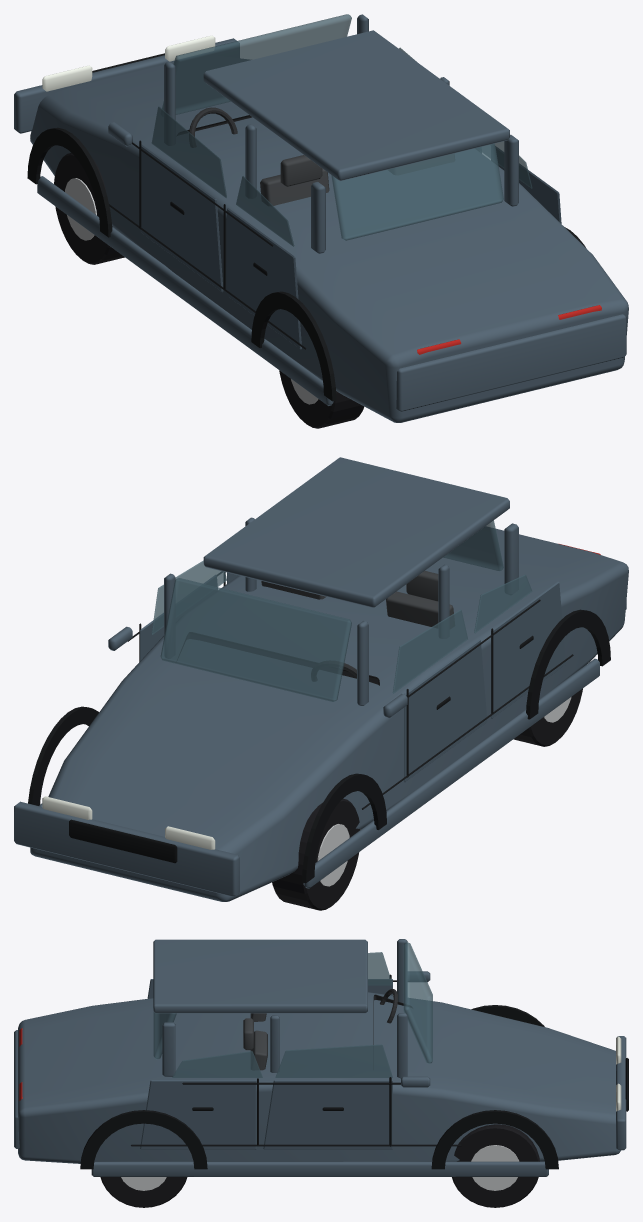
File: drivable-sedan.glb
3 renders of one model, top to bottom at view 1: azimuth 30°, elevation 25°; view 2: azimuth 150°, elevation 25°; view 3: azimuth 270°, elevation 25°, orthographic. The views are drawn at different scales.
Visible parts, largest first — view 1: Body, Body.Roof, Body.RearFascia, Glass.Rear, Door.Driver, Body.Sill.Left, Glass.Windshield, Door.Rear.Left, Glass.Side.Driver, Body.FrontFascia, Body.WheelArch.Rear.-0.924, Body.WheelArch.Front.-0.924 (+14 smaller); view 2: Body, Body.Roof, Glass.Windshield, Body.FrontFascia, Door.Driver, Body.Sill.Left, Door.Rear.Left, Wheel.FL, Glass.Side.Driver, Body.WheelArch.Front.-0.924, Body.WheelArch.Rear.-0.924, Body.FrontGrille (+16 smaller); view 3: Body, Body.Roof, Door.Passenger, Body.Sill.Right, Door.Rear.Right, Wheel.FR, Glass.Side.Passenger, Body.WheelArch.Rear.0.924, Body.WheelArch.Front.0.924, Glass.Windshield, Glass.Side.Rear.Right, Wheel.RR (+14 smaller).
Boxes of the visible parts, x1,y1,x2,y2 form: Body: [30, 55, 628, 422]; Body.Roof: [203, 30, 509, 181]; Body.RearFascia: [396, 314, 626, 411]; Glass.Rear: [331, 143, 503, 240]; Door.Driver: [140, 144, 223, 292]; Body.Sill.Left: [37, 176, 333, 405]; Glass.Windshield: [161, 14, 351, 116]; Door.Rear.Left: [227, 208, 301, 349]; Glass.Side.Driver: [151, 106, 226, 198]; Body.FrontFascia: [14, 38, 239, 133]; Body.WheelArch.Rear.-0.924: [251, 291, 336, 401]; Body.WheelArch.Front.-0.924: [27, 127, 112, 237]; Body: [30, 526, 628, 901]; Body.Roof: [203, 457, 509, 607]; Glass.Windshield: [160, 578, 351, 701]; Body.FrontFascia: [14, 801, 239, 896]; Door.Driver: [404, 639, 487, 781]; Body.Sill.Left: [303, 658, 599, 888]; Door.Rear.Left: [491, 581, 565, 718]; Wheel.FL: [272, 798, 360, 910]; Glass.Side.Driver: [392, 609, 467, 693]; Body.WheelArch.Front.-0.924: [302, 773, 386, 883]; Body.WheelArch.Rear.-0.924: [526, 609, 610, 719]; Body.FrontGrille: [69, 819, 177, 863]; Body: [18, 992, 620, 1163]; Body.Roof: [153, 939, 367, 1013]; Door.Passenger: [263, 1080, 392, 1149]; Body.Sill.Right: [91, 1161, 548, 1176]; Door.Rear.Right: [140, 1080, 256, 1149]; Wheel.FR: [452, 1124, 539, 1207]; Glass.Side.Passenger: [275, 1044, 392, 1077]; Body.WheelArch.Rear.0.924: [80, 1110, 207, 1169]; Body.WheelArch.Front.0.924: [431, 1110, 558, 1169]; Glass.Windshield: [403, 942, 432, 1063]; Glass.Side.Rear.Right: [172, 1051, 262, 1077]; Wheel.RR: [100, 1177, 187, 1207].
Size of what is drawn, in the model's own units: 1.94 by 1.57 by 4.64.
